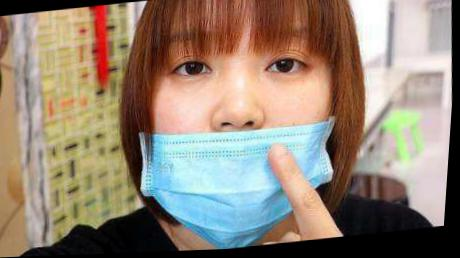WRONG: (138, 1, 353, 254)
